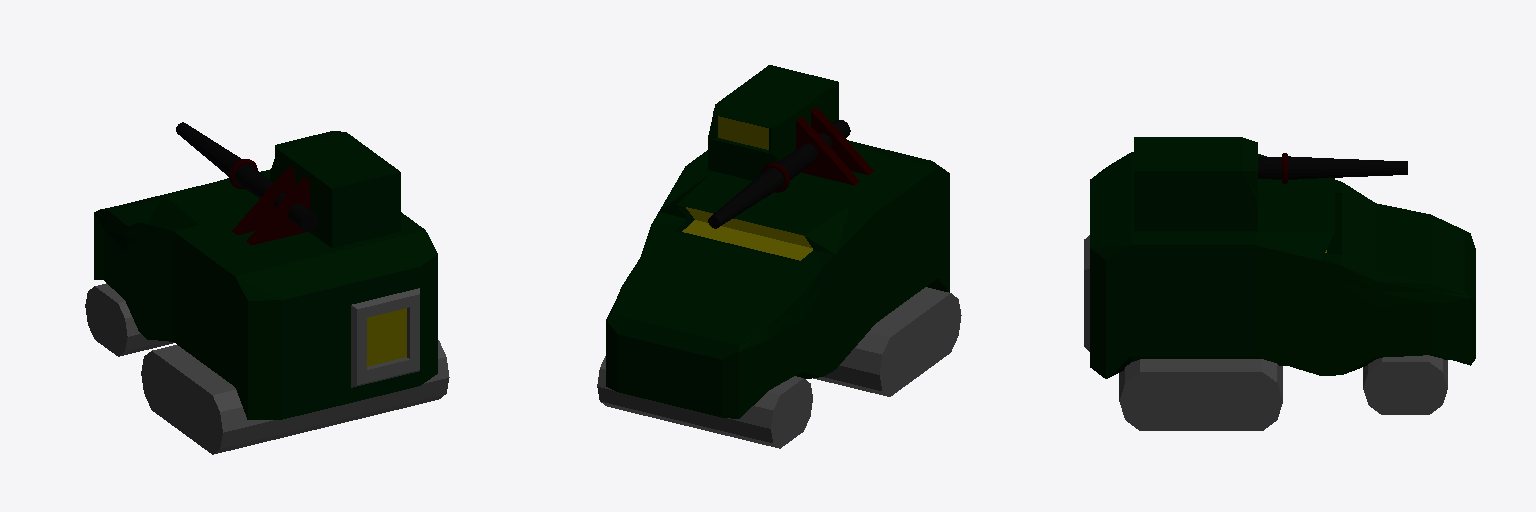
Rendered from tank.obj.
3 views of the same model, side by side, from view 1: azimuth 30°, elevation 25°; view 2: azimuth 150°, elevation 25°; view 3: azimuth 270°, elevation 25° (orthographic).
Visible parts, largest first — view 1: body, head; view 2: body, head; view 3: body, head.
Boxes of the visible parts, box(x1,y1,x2,y2) form: body: box(85, 169, 449, 454); head: box(176, 122, 400, 247); body: box(597, 140, 961, 448); head: box(708, 65, 873, 228); body: box(1084, 152, 1475, 430); head: box(1134, 137, 1407, 230).
Size of the model in its own units: 1 by 1.01 by 1.5.